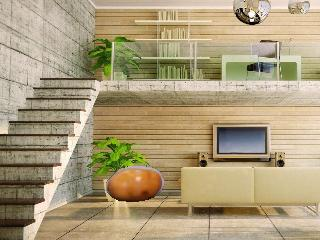potato: (103, 165, 168, 204)
